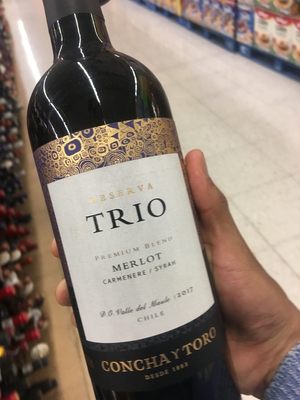trio merlot: (23, 34, 213, 400)
